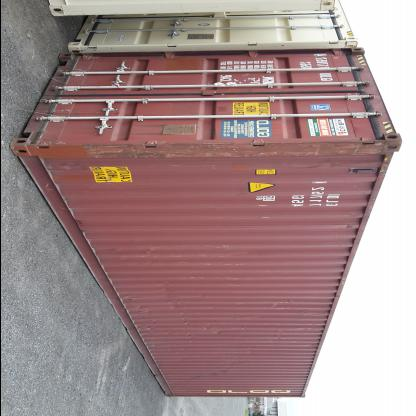Damage: (82, 140, 398, 156), (170, 288, 198, 340), (214, 241, 255, 273), (278, 158, 342, 172), (191, 362, 231, 380), (235, 338, 268, 356), (134, 248, 170, 262), (272, 325, 294, 345), (288, 306, 318, 320)
